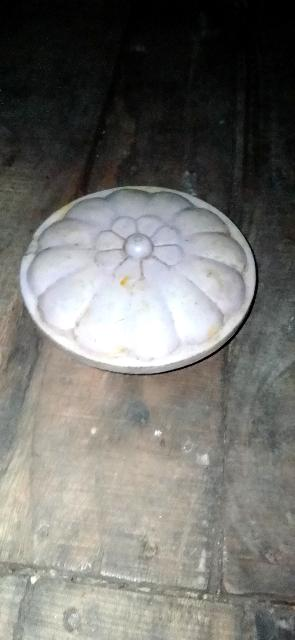hardplastic: (6, 160, 277, 405)
